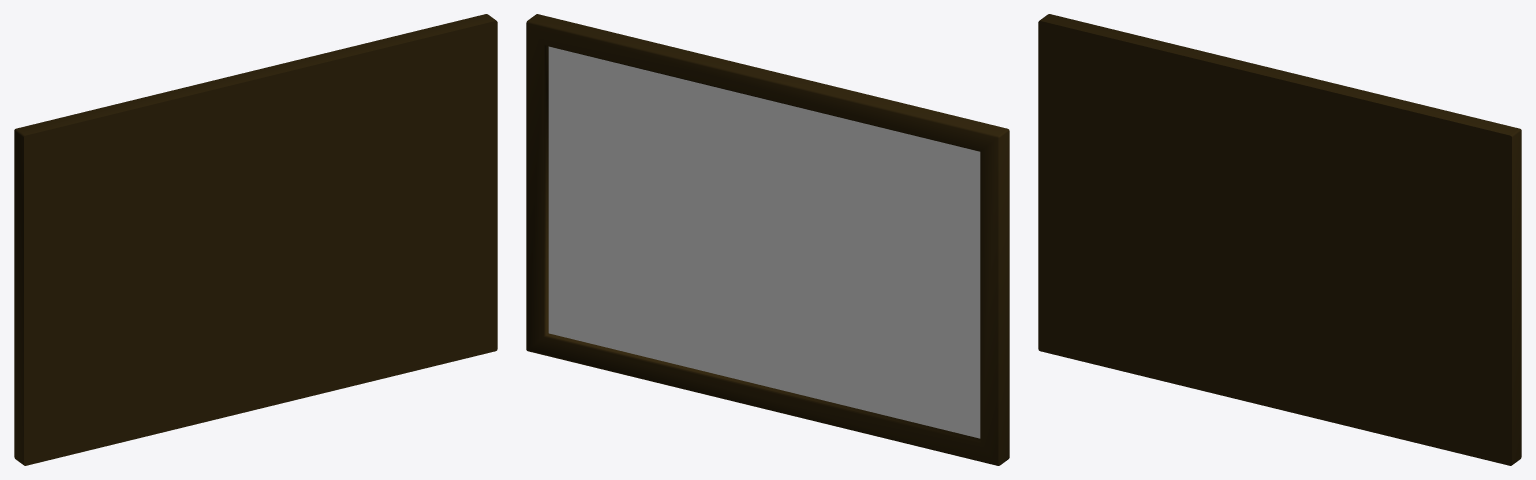
The model's file is Painting.fbx.
The picture shows the model from 3 angles, left to right: view 1: azimuth 30°, elevation 25°; view 2: azimuth 150°, elevation 25°; view 3: azimuth 330°, elevation 25°; orthographic projection.
Visible parts, largest first — view 1: Painting; view 2: Painting; view 3: Painting.
Boxes of the visible parts, x1,y1,x2,y2 form: Painting: (14,14,497,465); Painting: (526,14,1009,465); Painting: (1038,14,1521,465).
Bounding box in the file's own units: 160 × 107 × 6.
